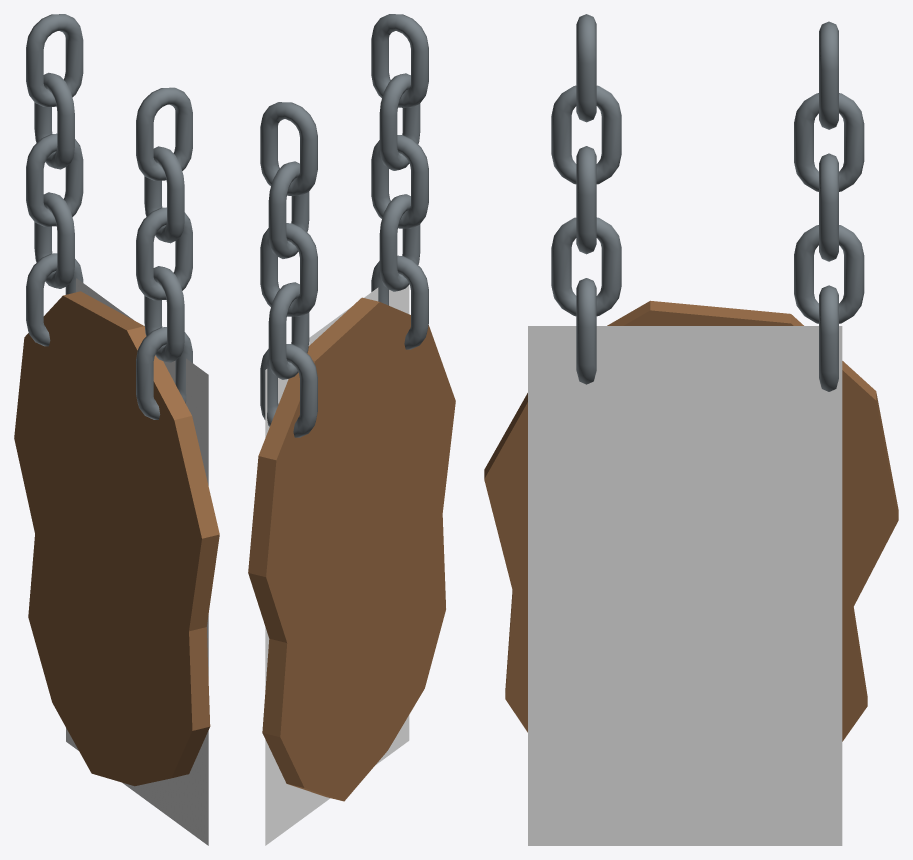
The model's file is SignMoney.fbx.
3 renders of one model, left to right at view 1: azimuth 30°, elevation 25°; view 2: azimuth 150°, elevation 25°; view 3: azimuth 270°, elevation 25°, orthographic. The views are drawn at different scales.
Visible parts, largest first — view 1: SignMoney; view 2: SignMoney; view 3: SignMoney.
Boxes of the visible parts, x1,y1,x2,y2 form: SignMoney: (14,14,219,845); SignMoney: (248,14,455,845); SignMoney: (484,14,898,845).
Bounding box in the file's own units: 14.22 × 183 × 83.78.
3 materials, 3 textured.
